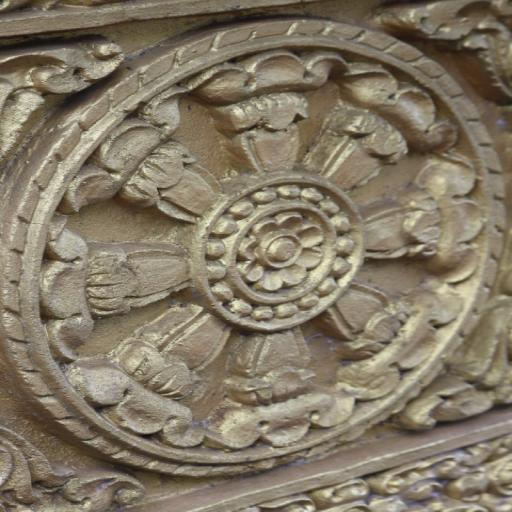hoa: (245, 214, 329, 290)
la: (86, 311, 236, 448), (73, 108, 219, 228), (211, 320, 340, 451), (324, 59, 452, 189), (46, 234, 194, 340), (330, 285, 464, 401), (208, 50, 312, 173), (367, 155, 482, 263)
